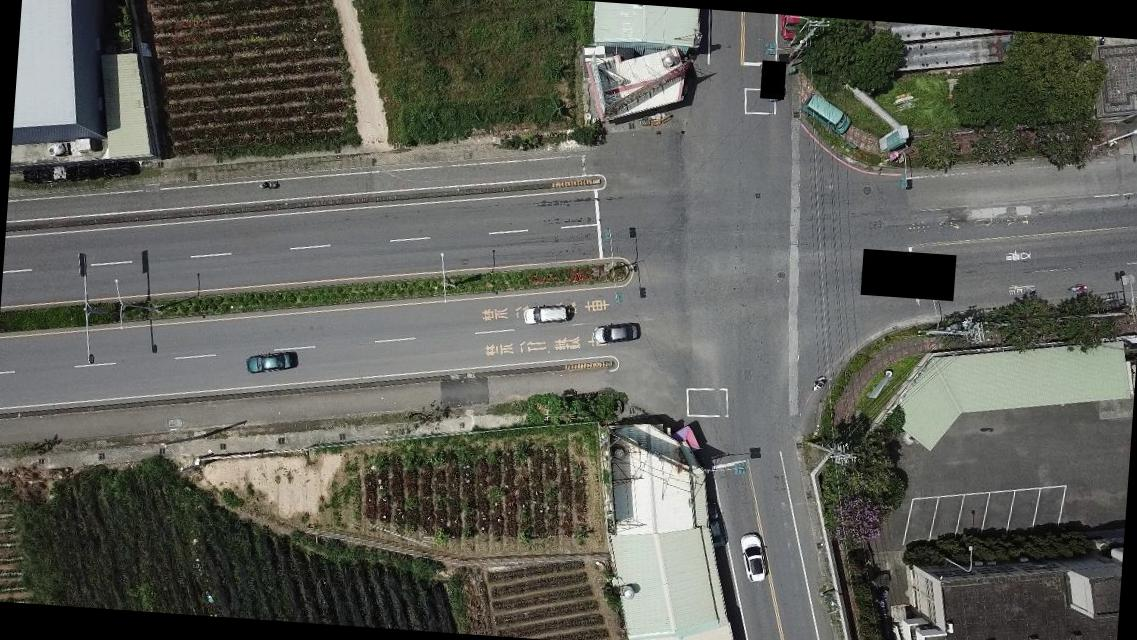vehicle: (802, 93, 852, 134), (738, 532, 770, 582), (246, 349, 296, 378), (523, 303, 572, 327), (593, 320, 638, 346), (704, 502, 728, 544), (779, 15, 802, 40)
